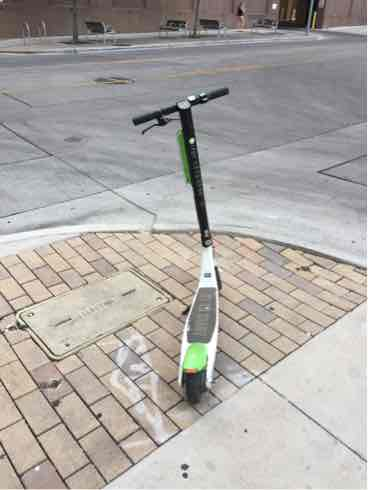scooter: (126, 73, 252, 420)
